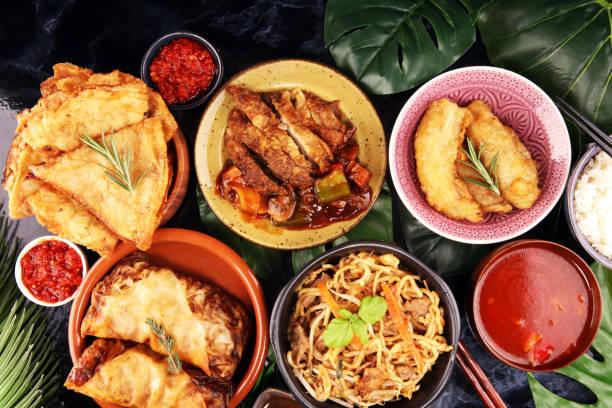Braised Crucian Carp: (194, 57, 381, 247), (0, 64, 181, 260), (68, 229, 264, 405), (389, 65, 570, 246), (270, 240, 458, 407), (158, 125, 190, 226)
